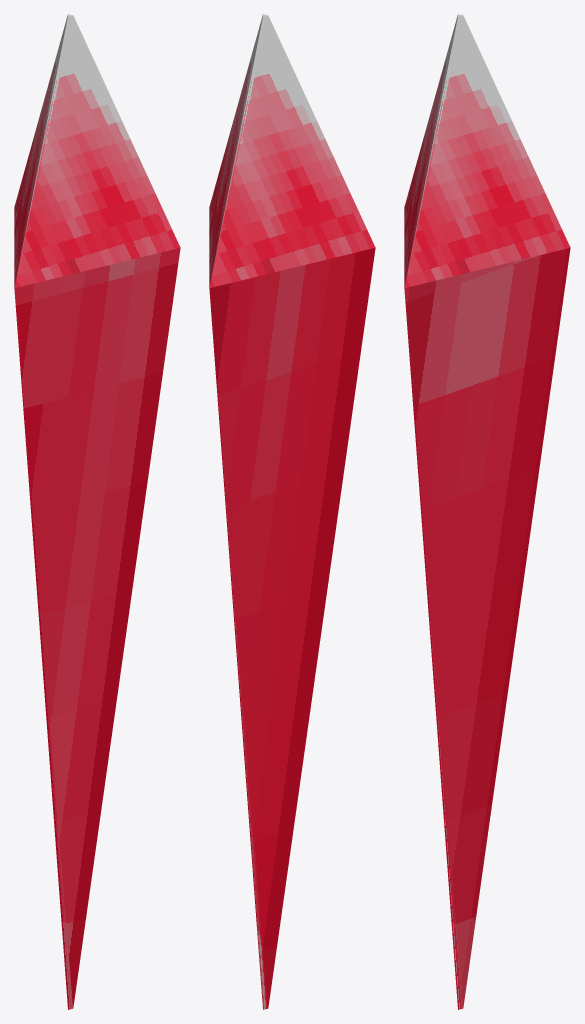
The model's file is Disparo_laser_Enemigo.fbx.
The picture shows the model from 3 angles, left to right: view 1: azimuth 30°, elevation 25°; view 2: azimuth 150°, elevation 25°; view 3: azimuth 270°, elevation 25°; orthographic projection.
Visible parts, largest first — view 1: Disparo Laser; view 2: Disparo Laser; view 3: Disparo Laser.
Part boxes in pixels (x1,y1,x2,y2): Disparo Laser: (14, 14, 180, 1009); Disparo Laser: (209, 14, 375, 1009); Disparo Laser: (404, 14, 570, 1009).
Bounding box in the file's own units: 45.72 × 261 × 39.59.
Materials: 1 (1 with a texture image).
